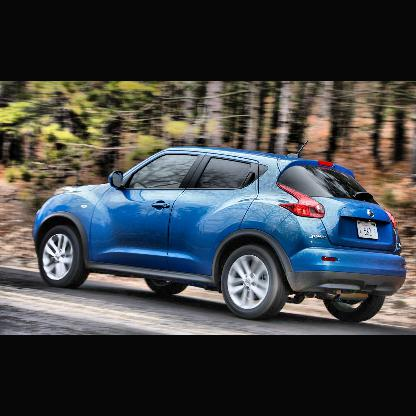Nissan Juke Hatchback 2012: (33, 147, 407, 323)
